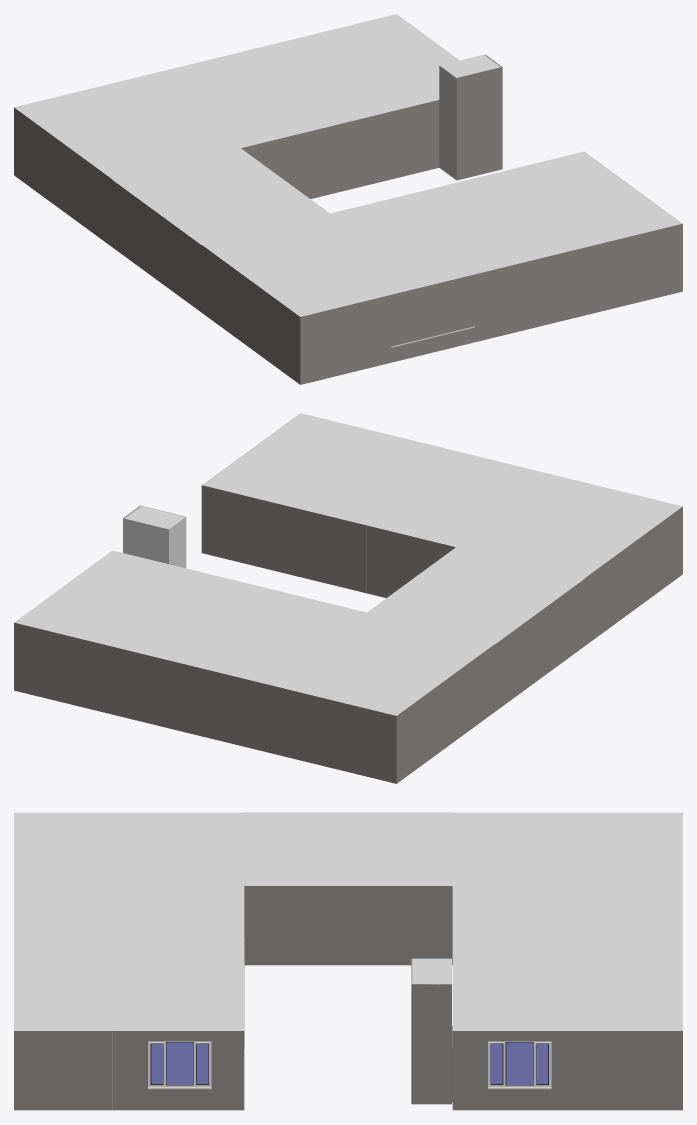
File: ParumRestat-Level2.fbx
3 views of the same model, one above another, from view 1: azimuth 30°, elevation 25°; view 2: azimuth 150°, elevation 25°; view 3: azimuth 270°, elevation 25° (orthographic). The views are drawn at different scales.
Visible parts, largest first — view 1: Level2Techo, Level2; view 2: Level2Techo, Level2; view 3: Level2Techo, Level2, Window, Window.001.
Part boxes in pixels (x1=…): Level2Techo: x1=14, y1=14, x2=682, y2=316; Level2: x1=14, y1=54, x2=682, y2=384; Level2Techo: x1=14, y1=413, x2=682, y2=715; Level2: x1=14, y1=485, x2=682, y2=783; Level2Techo: x1=14, y1=812, x2=682, y2=1030; Level2: x1=14, y1=886, x2=682, y2=1110; Window: x1=148, y1=1041, x2=211, y2=1089; Window.001: x1=488, y1=1041, x2=551, y2=1089.
Size of the model in its own units: 2798 by 715 by 3605.
Materials: 475 (464 with a texture image).
